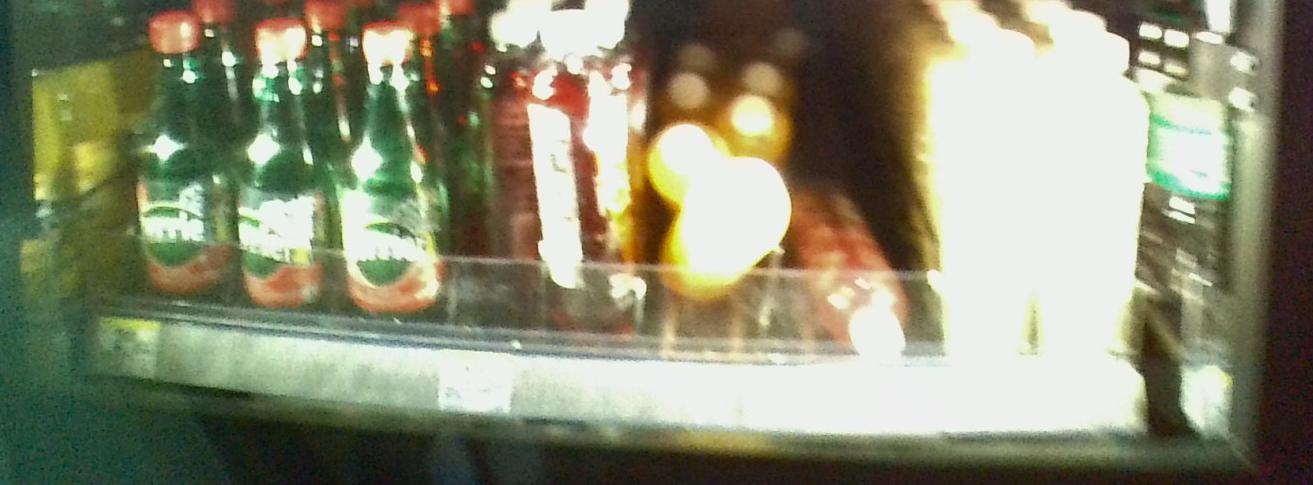bottle: (331, 17, 439, 338), (946, 32, 1046, 369), (1053, 22, 1146, 377), (539, 12, 635, 332), (138, 12, 230, 324), (237, 18, 327, 334), (461, 16, 537, 328), (674, 156, 789, 294)
